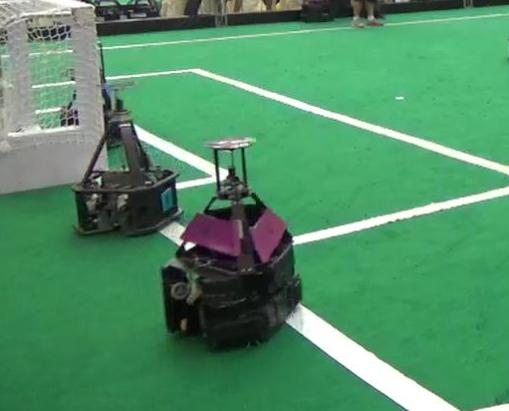robot: (155, 135, 315, 350), (65, 83, 185, 238)
